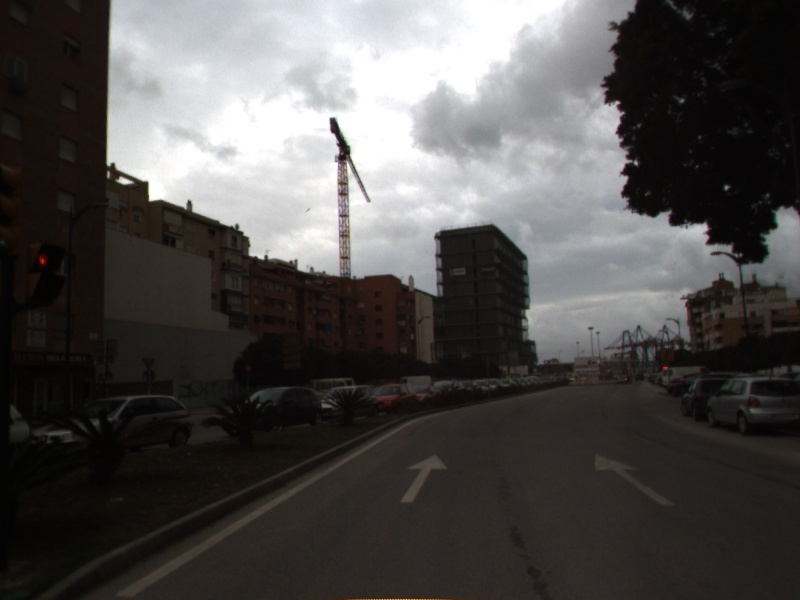STRAIGHT: (592, 450, 677, 508), (398, 452, 452, 505)
